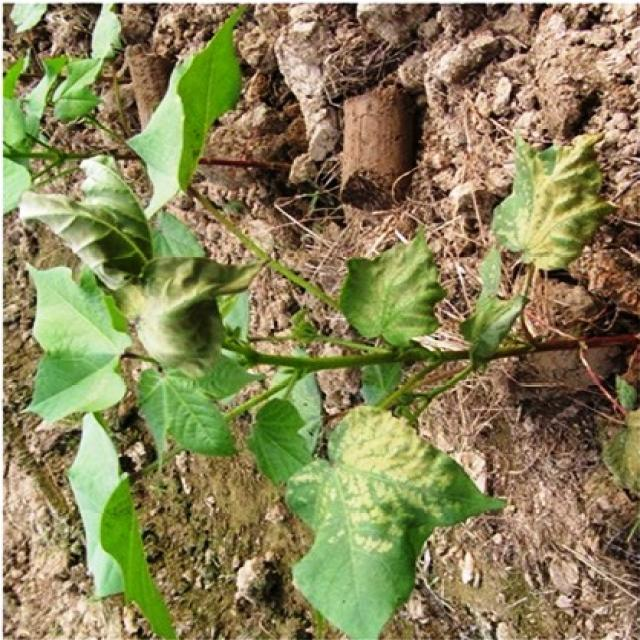Fusarium Wilt: (0, 7, 640, 639)
